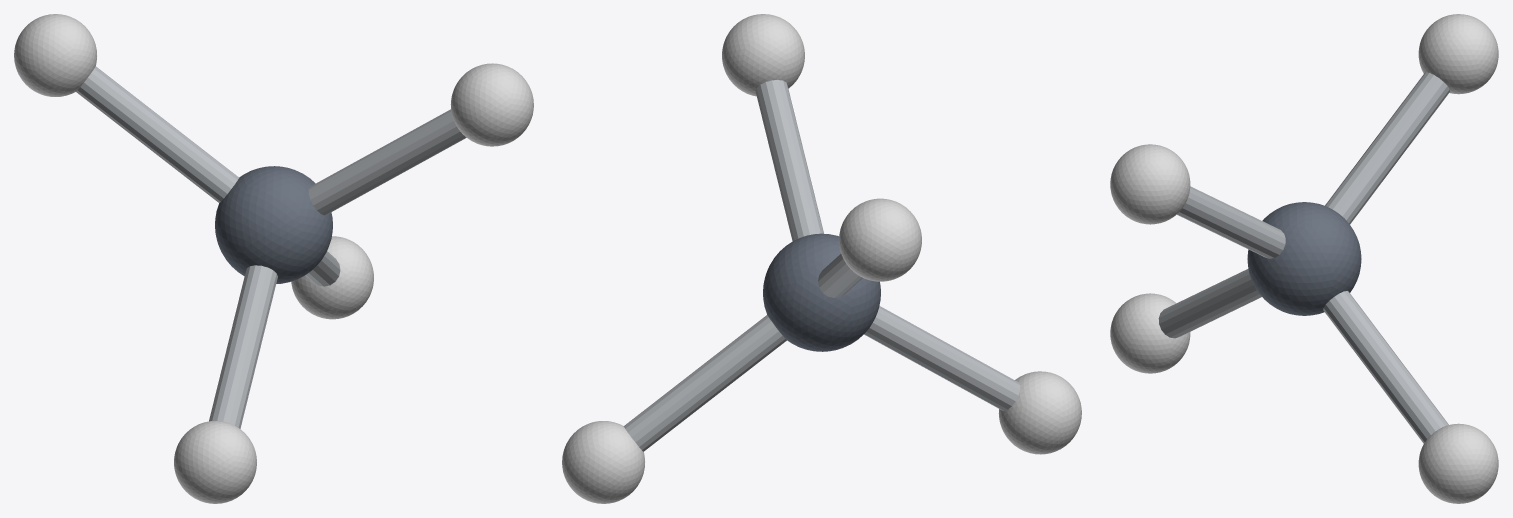
File: metano_CH4.glb
3 views of the same model, side by side, from view 1: azimuth 30°, elevation 25°; view 2: azimuth 150°, elevation 25°; view 3: azimuth 270°, elevation 25° (orthographic). The views are drawn at different scales.
Visible parts, largest first — view 1: C_0, bond_0_3_0, H_1, H_2, bond_0_1_0, H_3, bond_0_2_0, H_4, bond_0_4_0; view 2: C_0, bond_0_4_0, H_3, bond_0_2_0, H_4, bond_0_1_0, H_2, H_1, bond_0_3_0; view 3: C_0, bond_0_4_0, bond_0_3_0, H_1, H_4, H_3, H_2, bond_0_1_0, bond_0_2_0.
Part boxes in pixels (x1,y1,x2,y2): C_0: (215,166,332,283); bond_0_3_0: (76,66,238,203); H_1: (450,63,533,146); H_2: (174,421,256,503); bond_0_1_0: (308,109,466,215); H_3: (14,14,96,96); bond_0_2_0: (209,265,277,428); H_4: (291,236,373,319); bond_0_4_0: (305,251,340,286); C_0: (763,233,880,351); bond_0_4_0: (623,315,786,451); H_3: (839,198,921,281); bond_0_2_0: (864,306,1020,410); H_4: (562,421,644,503); bond_0_1_0: (755,79,823,240); H_2: (998,371,1081,454); H_1: (722,14,804,96); bond_0_3_0: (818,254,862,297); C_0: (1247,202,1361,315); bond_0_4_0: (1323,291,1448,443); bond_0_3_0: (1325,72,1449,224); H_1: (1110,144,1190,224); H_4: (1418,423,1498,503); H_3: (1418,14,1498,94); H_2: (1110,293,1190,373); bond_0_1_0: (1177,186,1285,258); bond_0_2_0: (1158,268,1261,338).
Size of the model in its own units: 1.84 by 1.84 by 1.84.
